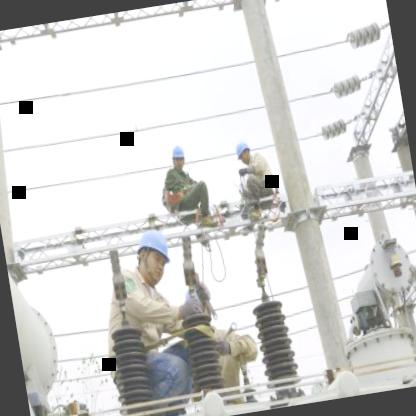helmet: (126, 221, 178, 290), (166, 139, 188, 172), (231, 140, 255, 170)
